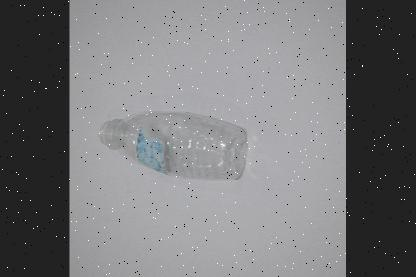Plastic Bottle: (98, 110, 247, 179)
